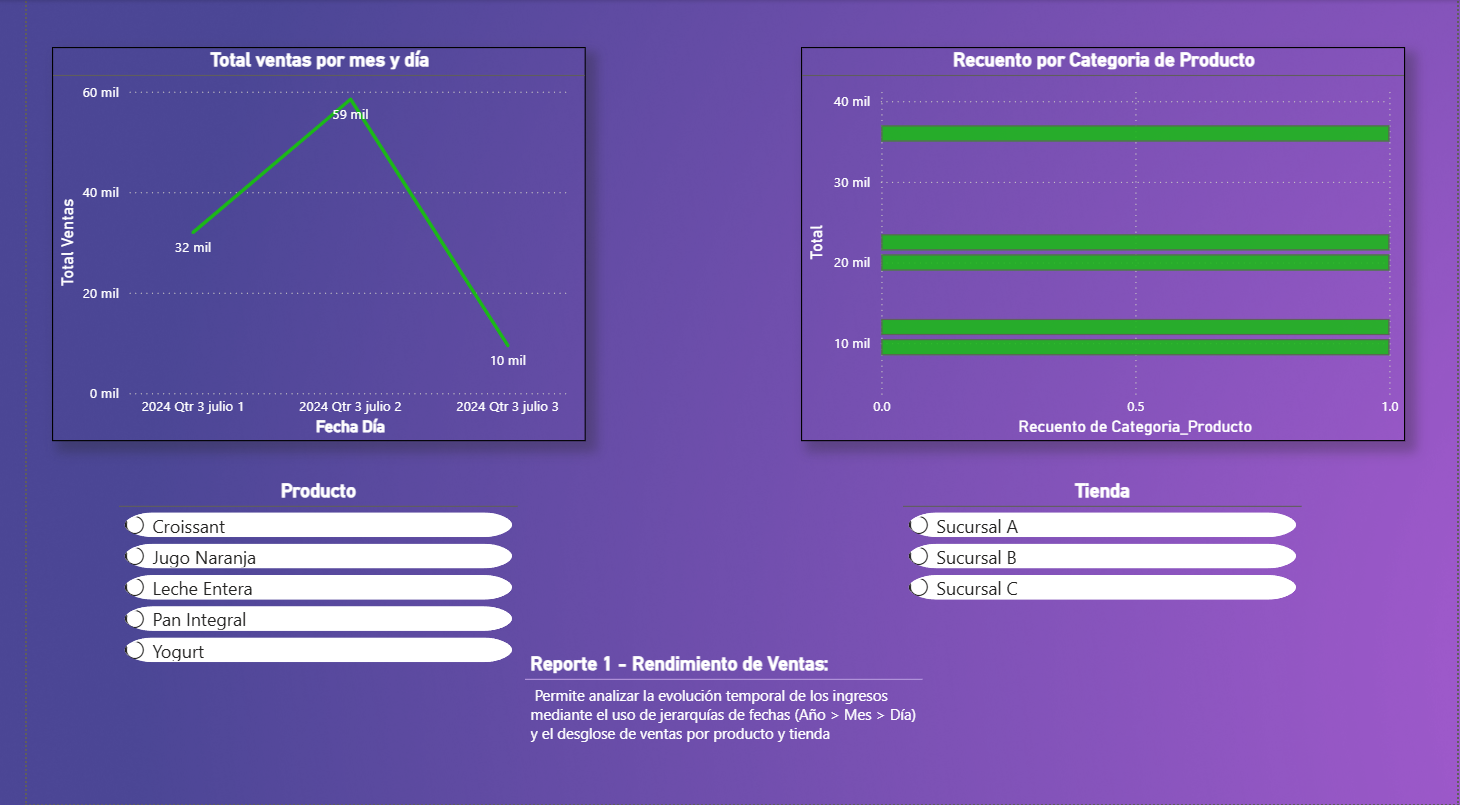

This screenshot's page, from the dashboard's own definition file:
{"tool":"powerbi","page":{"name":"Ventas","canvas":[1280,720],"ordinal":1},"visuals":[{"type":"lineChart","title":"Total ventas por mes y día","fields":{"Y":["Ventas.Total Ventas"],"Category":["Ventas.Fecha.Variación.Jerarquía de fechas.Año","Ventas.Fecha.Variación.Jerarquía de fechas.Trimestre","Ventas.Fecha.Variación.Jerarquía de fechas.Mes","Ventas.Fecha.Variación.Jerarquía de fechas.Día"]},"box":[22.4,41.8,477.6,353.1],"z":0},{"type":"barChart","title":"Recuento por Categoria de Producto","fields":{"Y":["CountNonNull(Ventas.Categoria_Producto)"],"Category":["Ventas.Total"]},"box":[693.1,42.1,540.9,352.8],"z":1000},{"type":"listSlicer","fields":{"Values":["Ventas.Producto"]},"box":[82.4,429,357.3,254.3],"z":1002},{"type":"listSlicer","fields":{"Values":["Ventas.Tienda"]},"box":[784.5,429,357.3,254.3],"z":1003},{"type":"textbox","title":"Reporte 1 - Rendimiento de Ventas:","box":[499.7,565.1,729.9,118.2],"z":1004}]}

Visuals, with their boxes in screenshot pixels (x1, y1, x2, y2), scaled from the page's 1280x720 canvas onto the 1460x805 screenshot:
"Total ventas por mes y día" lineChart: locate(26, 47, 570, 442)
"Recuento por Categoria de Producto" barChart: locate(791, 47, 1408, 442)
listSlicer - Ventas.Producto: locate(94, 480, 502, 764)
listSlicer - Ventas.Tienda: locate(895, 480, 1302, 764)
"Reporte 1 - Rendimiento de Ventas:" textbox: locate(570, 632, 1403, 764)
